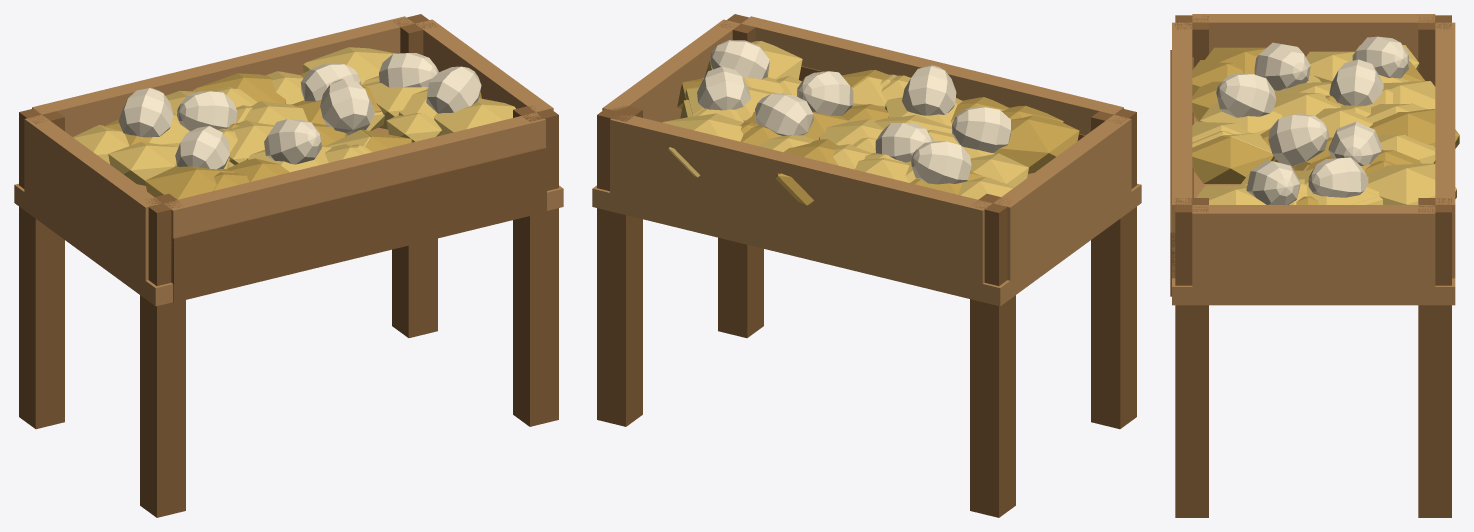
Rendered from NestBox.fbx.
3 renders of one model, left to right at view 1: azimuth 30°, elevation 25°; view 2: azimuth 150°, elevation 25°; view 3: azimuth 270°, elevation 25°, orthographic.
Visible parts, largest first — view 1: NestBox, Egg_2, Egg_4, Egg_1, Egg_3, Egg_5, Egg_0, Egg_7, Egg_6; view 2: NestBox, Egg_0, Egg_4, Egg_1, Egg_6, Egg_2, Egg_7, Egg_3, Egg_5; view 3: NestBox, Egg_2, Egg_1, Egg_0, Egg_7, Egg_5, Egg_3, Egg_6, Egg_4.
Part boxes in pixels (bbox=[...]): NestBox: bbox=[14, 14, 563, 517]; Egg_2: bbox=[320, 79, 374, 135]; Egg_4: bbox=[118, 88, 173, 137]; Egg_1: bbox=[264, 119, 321, 164]; Egg_3: bbox=[426, 66, 481, 113]; Egg_5: bbox=[177, 91, 237, 131]; Egg_0: bbox=[175, 126, 229, 169]; Egg_7: bbox=[379, 53, 438, 87]; Egg_6: bbox=[300, 64, 360, 101]; NestBox: bbox=[592, 14, 1141, 517]; Egg_0: bbox=[952, 106, 1010, 152]; Egg_4: bbox=[911, 141, 971, 184]; Egg_1: bbox=[902, 65, 956, 115]; Egg_6: bbox=[755, 93, 813, 135]; Egg_2: bbox=[797, 71, 853, 116]; Egg_7: bbox=[697, 66, 750, 110]; Egg_3: bbox=[710, 40, 769, 78]; Egg_5: bbox=[875, 123, 933, 162]; NestBox: bbox=[1170, 14, 1459, 517]; Egg_2: bbox=[1268, 114, 1328, 166]; Egg_1: bbox=[1216, 73, 1276, 117]; Egg_0: bbox=[1254, 42, 1310, 90]; Egg_7: bbox=[1308, 157, 1366, 197]; Egg_5: bbox=[1329, 59, 1383, 105]; Egg_3: bbox=[1246, 160, 1300, 204]; Egg_6: bbox=[1328, 121, 1382, 165]; Egg_4: bbox=[1352, 36, 1408, 78].
Size of the model in its own units: 0.7 by 0.5422 by 0.4288.
